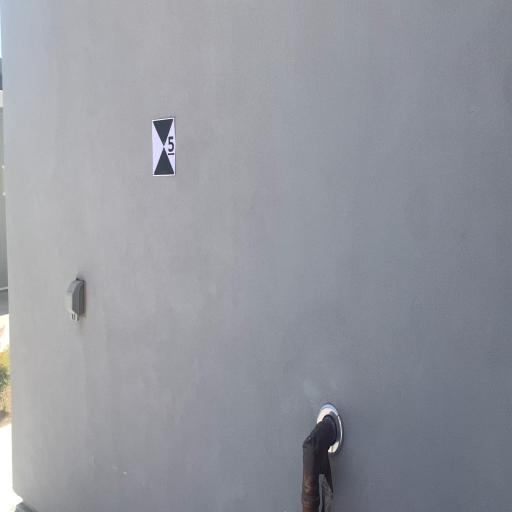target5: (153, 119, 176, 176)
